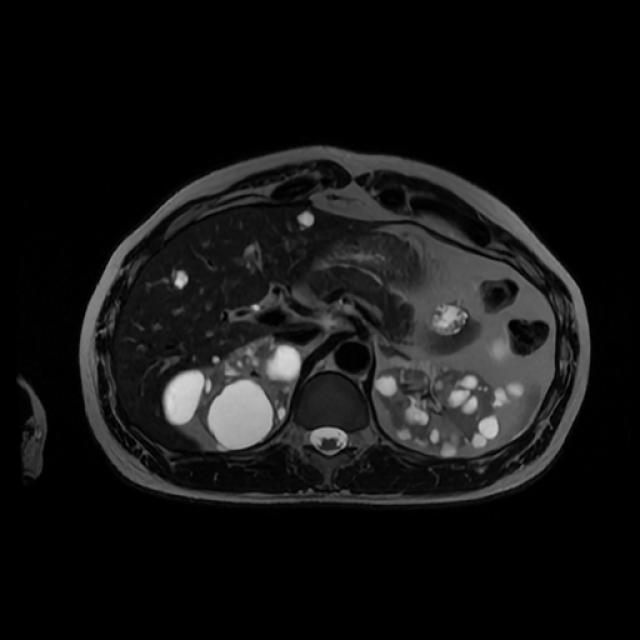sag: (166, 336, 301, 450)
sol: (378, 364, 524, 458)
